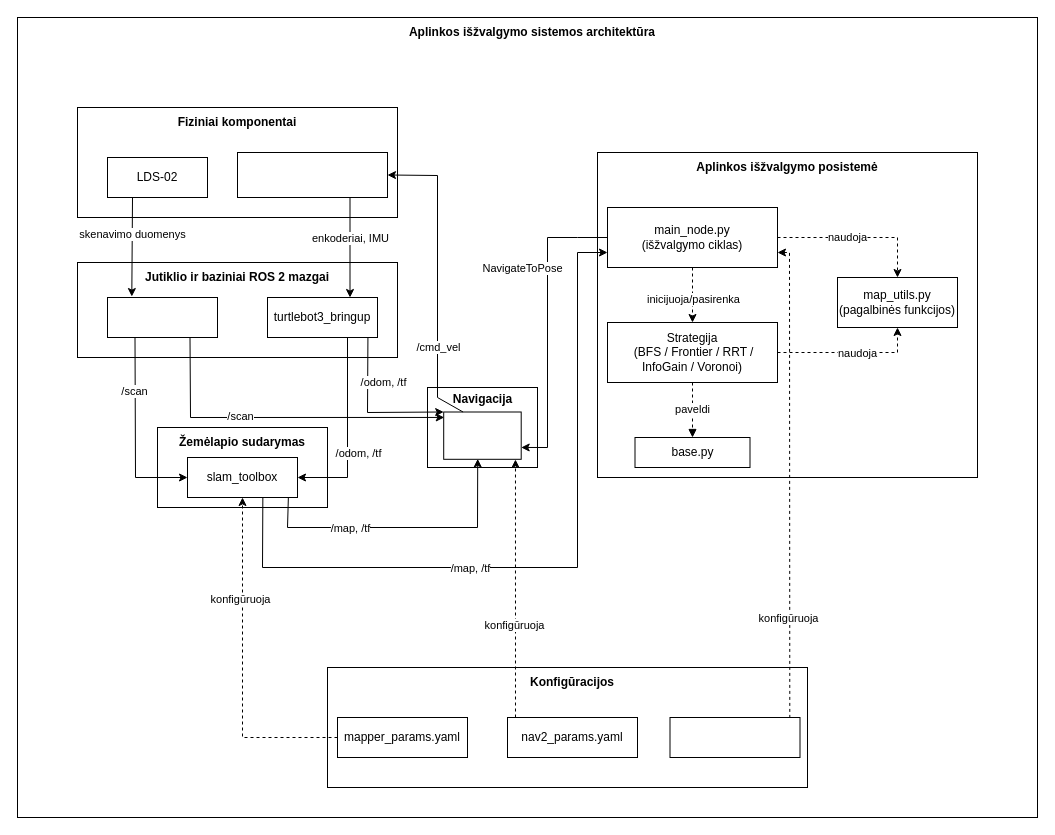
Some shapes in this 1055 by 835 pixel diagram are drawn without their labels. The shapes that lost their labels are listed below. From the top down, each one's box as (x1, y1, x2, y2) in pixels, then its label:
(236, 152, 388, 198): TurtleBot Burger (OpenCR, varikliai, IMU)
(106, 296, 218, 338): lds_driver_node.py
(443, 411, 521, 459): Nav2
(669, 716, 800, 758): exploration.yaml
